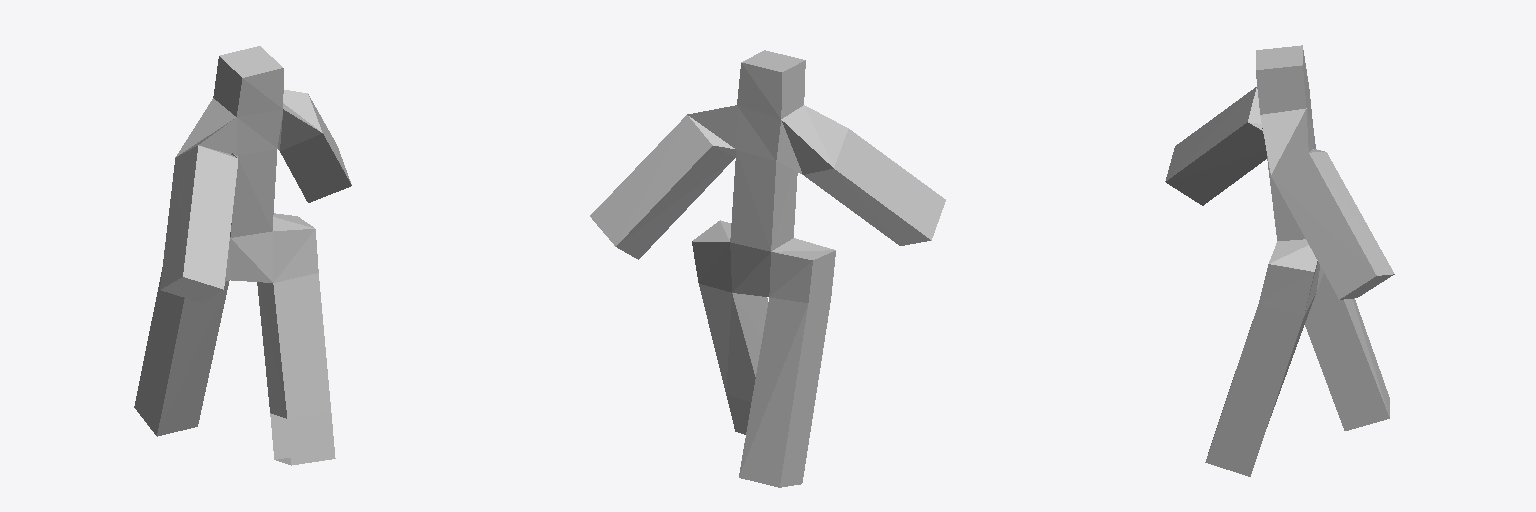
The model's file is cuboid_000017.obj.
3 views of the same model, side by side, from view 1: azimuth 30°, elevation 25°; view 2: azimuth 150°, elevation 25°; view 3: azimuth 270°, elevation 25° (orthographic).
Parts seen in each view (by area): view 1: Cube; view 2: Cube; view 3: Cube.
Boxes of the visible parts, x1=… form: Cube: x1=134, y1=46, x2=351, y2=465; Cube: x1=590, y1=50, x2=945, y2=487; Cube: x1=1165, y1=45, x2=1394, y2=476.
Size of the model in its own units: 3.16 by 4.61 by 2.42.